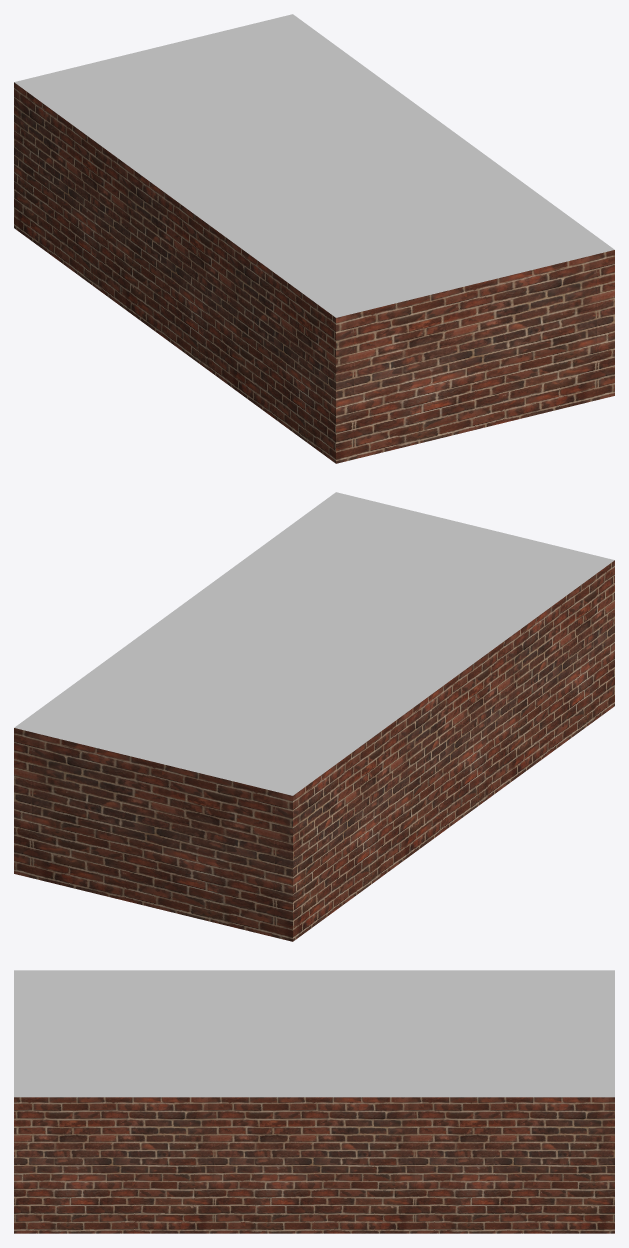
The model's file is backstage_room.fbx.
3 renders of one model, top to bottom at view 1: azimuth 30°, elevation 25°; view 2: azimuth 150°, elevation 25°; view 3: azimuth 270°, elevation 25°, orthographic. The views are drawn at different scales.
Parts seen in each view (by area): view 1: pPlane5, pPlane6, pPlane4; view 2: pPlane5, pPlane6, pPlane7; view 3: pPlane3, pPlane5.
Part boxes in pixels (bbox=[...]): pPlane5: bbox=[14, 14, 614, 317]; pPlane6: bbox=[14, 82, 335, 463]; pPlane4: bbox=[336, 250, 614, 463]; pPlane5: bbox=[14, 492, 614, 795]; pPlane6: bbox=[293, 560, 614, 941]; pPlane7: bbox=[14, 728, 292, 941]; pPlane3: bbox=[14, 1097, 614, 1233]; pPlane5: bbox=[14, 970, 614, 1097].
Size of the model in its own units: 2 by 1 by 4.
